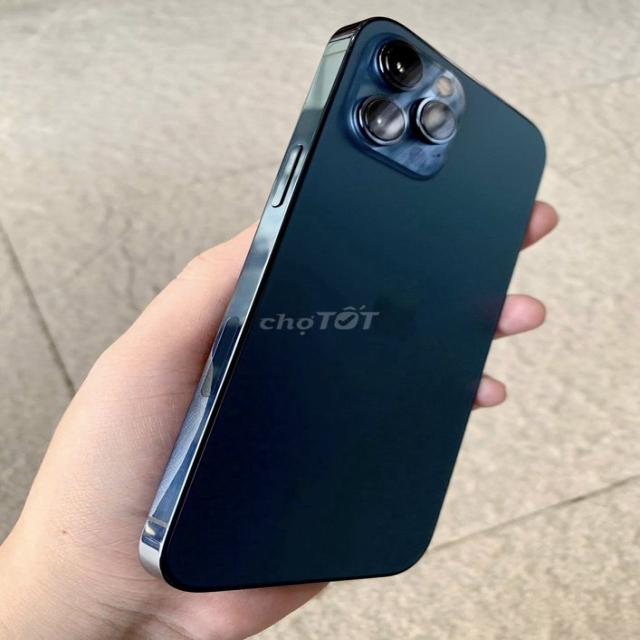gen_12_13: (138, 18, 550, 602)
